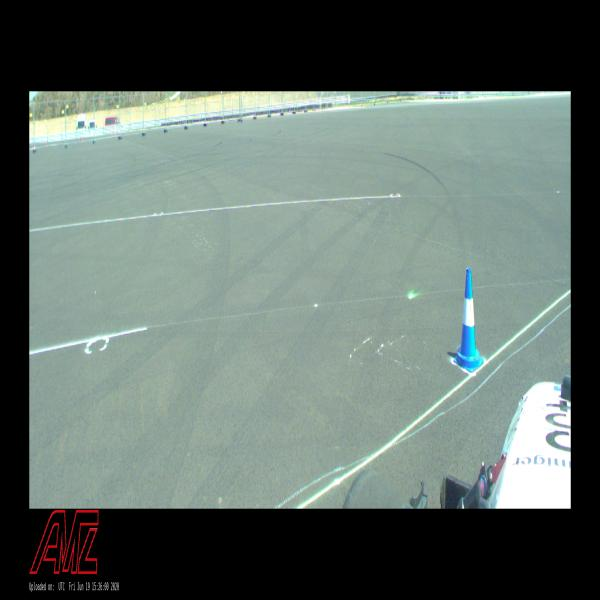blue_cone: (453, 268, 484, 372)
